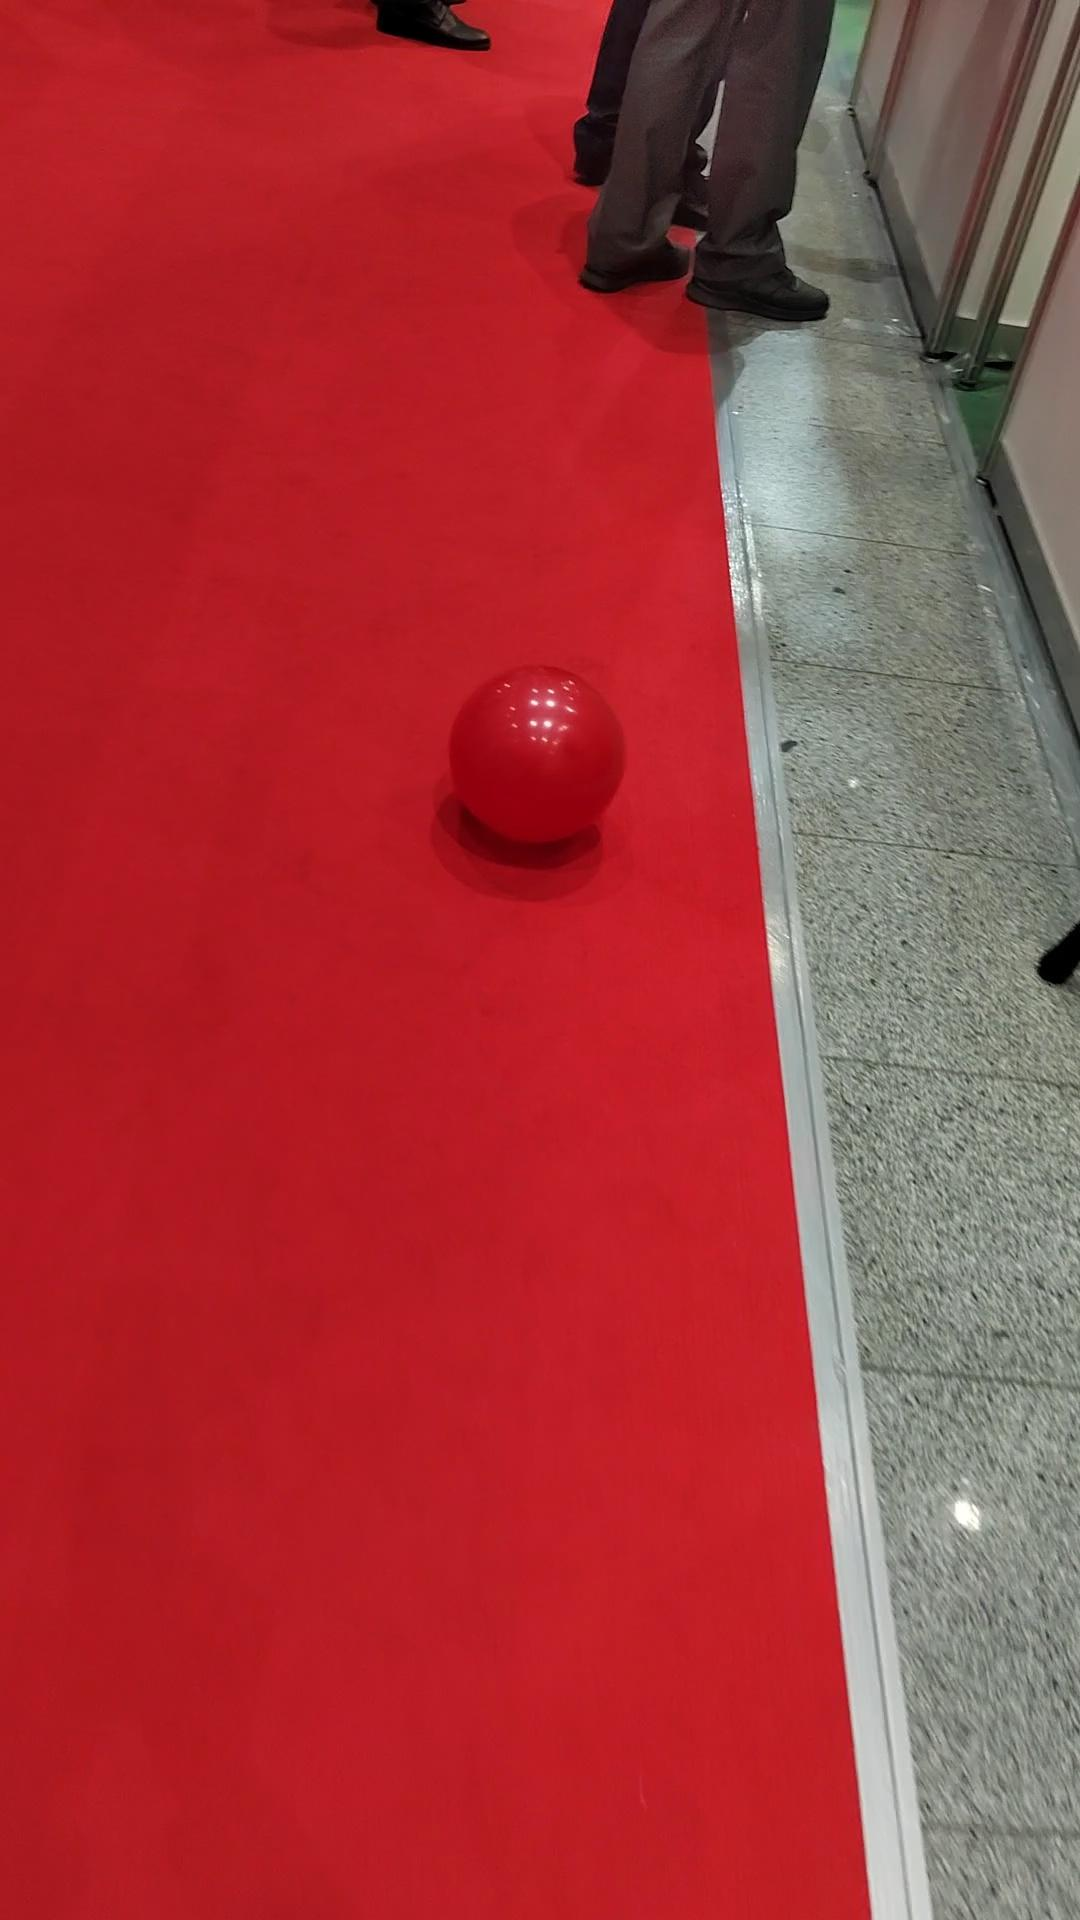red: (447, 667, 624, 845)
